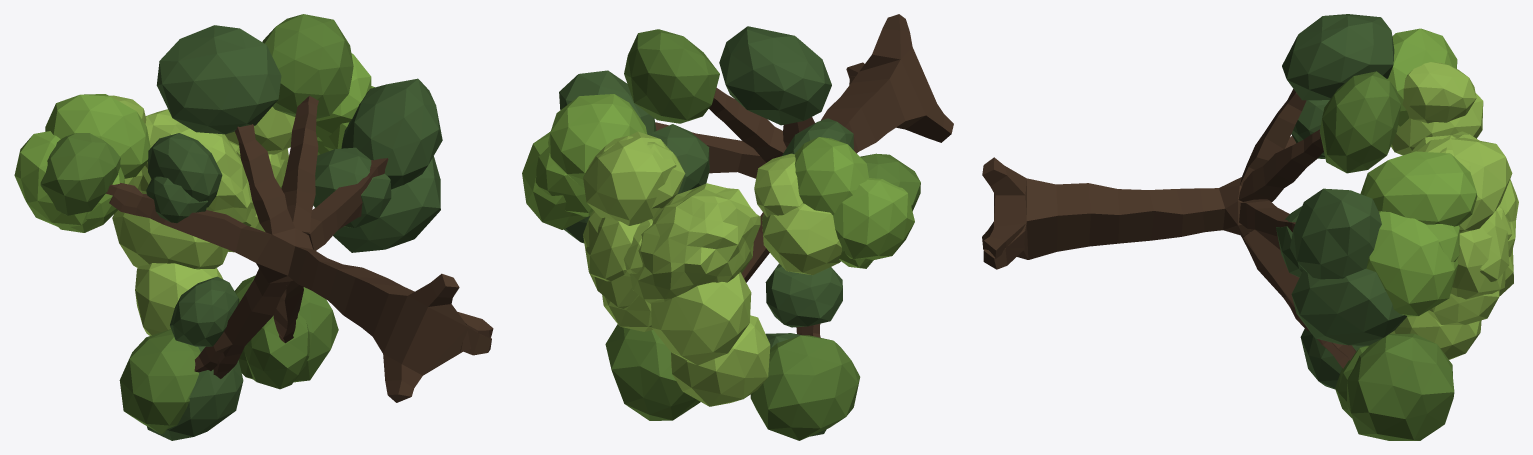
File: TreeOakGreenD4.fbx
The picture shows the model from 3 angles, left to right: view 1: azimuth 30°, elevation 25°; view 2: azimuth 150°, elevation 25°; view 3: azimuth 270°, elevation 25°; orthographic projection.
Visible parts, largest first — view 1: M_Tree_Leaf_Dark, M_Tree_Bark, M_Tree_Leaf_Mid, M_Tree_Leaf_Pale, M_Tree_Leaf_Light; view 2: M_Tree_Leaf_Pale, M_Tree_Leaf_Mid, M_Tree_Leaf_Light, M_Tree_Leaf_Dark, M_Tree_Bark; view 3: M_Tree_Bark, M_Tree_Leaf_Dark, M_Tree_Leaf_Pale, M_Tree_Leaf_Mid, M_Tree_Leaf_Light.
Boxes of the visible parts, x1=… form: M_Tree_Leaf_Dark: x1=146, y1=25, x2=442, y2=440; M_Tree_Bark: x1=106, y1=95, x2=493, y2=402; M_Tree_Leaf_Mid: x1=40, y1=14, x2=353, y2=434; M_Tree_Leaf_Pale: x1=109, y1=95, x2=295, y2=335; M_Tree_Leaf_Light: x1=14, y1=53, x2=374, y2=232; M_Tree_Leaf_Pale: x1=583, y1=131, x2=841, y2=406; M_Tree_Leaf_Mid: x1=605, y1=29, x2=920, y2=440; M_Tree_Leaf_Light: x1=522, y1=94, x2=914, y2=268; M_Tree_Leaf_Dark: x1=559, y1=26, x2=853, y2=436; M_Tree_Bark: x1=655, y1=14, x2=953, y2=337; M_Tree_Bark: x1=982, y1=89, x2=1356, y2=368; M_Tree_Leaf_Dark: x1=1276, y1=14, x2=1406, y2=389; M_Tree_Leaf_Pale: x1=1390, y1=62, x2=1518, y2=359; M_Tree_Leaf_Mid: x1=1319, y1=71, x2=1454, y2=440; M_Tree_Leaf_Light: x1=1360, y1=28, x2=1477, y2=316.
Size of the model in its own units: 29.5 by 28.44 by 35.33.
